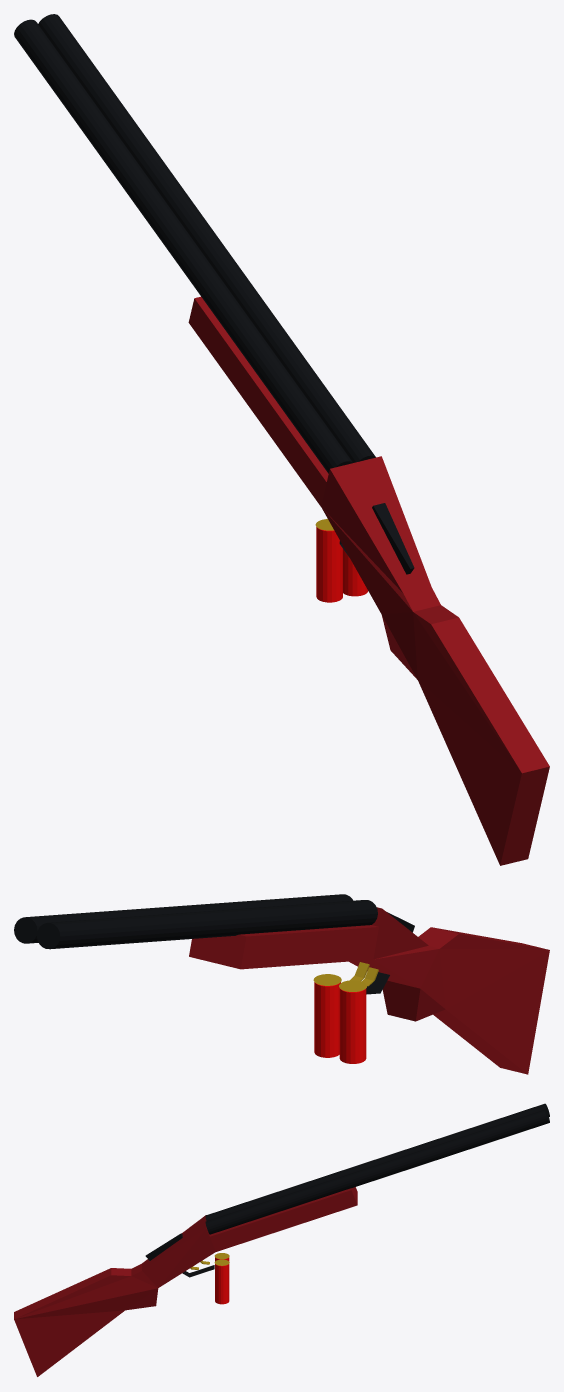
Rendered from double-barreled-shotgun0006.obj.
3 renders of one model, top to bottom at view 1: azimuth 30°, elevation 25°; view 2: azimuth 150°, elevation 25°; view 3: azimuth 270°, elevation 25°, orthographic. The views are drawn at different scales.
Visible parts, largest first — view 1: rearStock, leftBarrel, rightBarrel, foreGrip, shellPlastic; view 2: rearStock, leftBarrel, foreGrip, rightBarrel, shellPlastic, shellPlastic2, triggerGuard, shellRim2, shellRim; view 3: rearStock, rightBarrel, foreGrip, leftBarrel, shellPlastic2.
Part boxes in pixels (left/top/right/bottom): rearStock: left=321, top=456, right=549, bottom=865; leftBarrel: left=14, top=19, right=352, bottom=473; rightBarrel: left=38, top=14, right=375, bottom=462; foreGrip: left=188, top=296, right=328, bottom=506; shellPlastic: left=316, top=527, right=342, bottom=602; rearStock: left=349, top=907, right=549, bottom=1074; leftBarrel: left=36, top=900, right=377, bottom=949; foreGrip: left=189, top=925, right=378, bottom=969; rightBarrel: left=14, top=894, right=352, bottom=943; shellPlastic: left=339, top=988, right=366, bottom=1063; shellPlastic2: left=314, top=982, right=340, bottom=1057; triggerGuard: left=366, top=972, right=389, bottom=994; shellRim2: left=313, top=974, right=341, bottom=985; shellRim: left=339, top=980, right=366, bottom=991; rearStock: left=14, top=1215, right=215, bottom=1376; rightBarrel: left=205, top=1109, right=549, bottom=1234; foreGrip: left=210, top=1187, right=357, bottom=1251; leftBarrel: left=205, top=1103, right=549, bottom=1220; shellPlastic2: left=215, top=1264, right=229, bottom=1304.
Bounding box in the file's own units: 0.2057 × 1.88 × 3.43.
